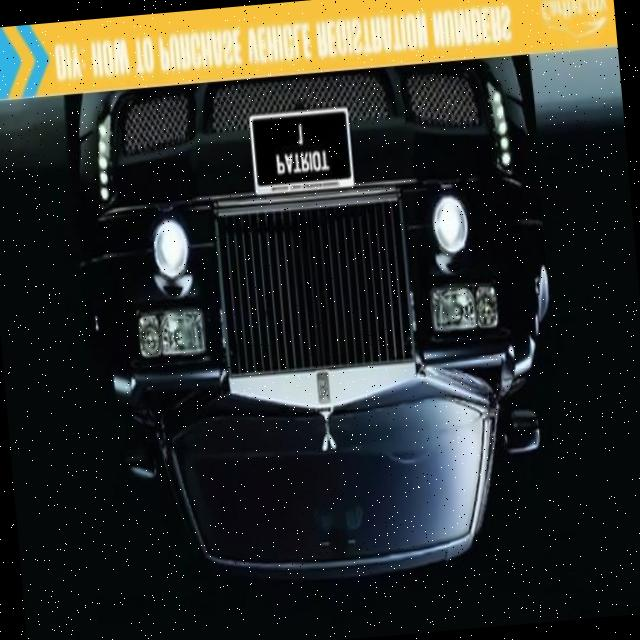License_Plate: (248, 106, 356, 199)
car: (62, 57, 568, 591)
